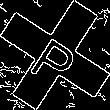P_NE: (26, 24, 84, 86)
